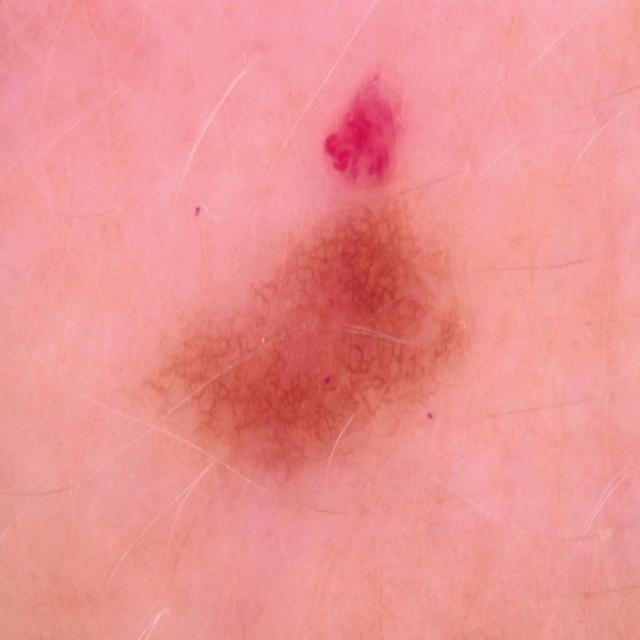NV: (144, 188, 471, 491)
